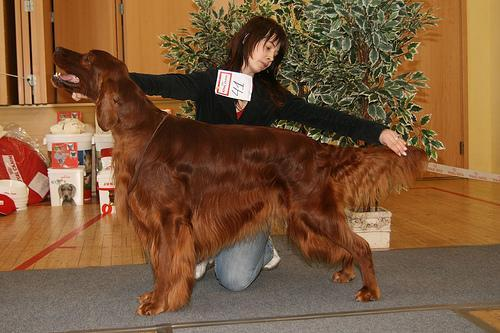Irish_setter: (52, 47, 430, 314)
